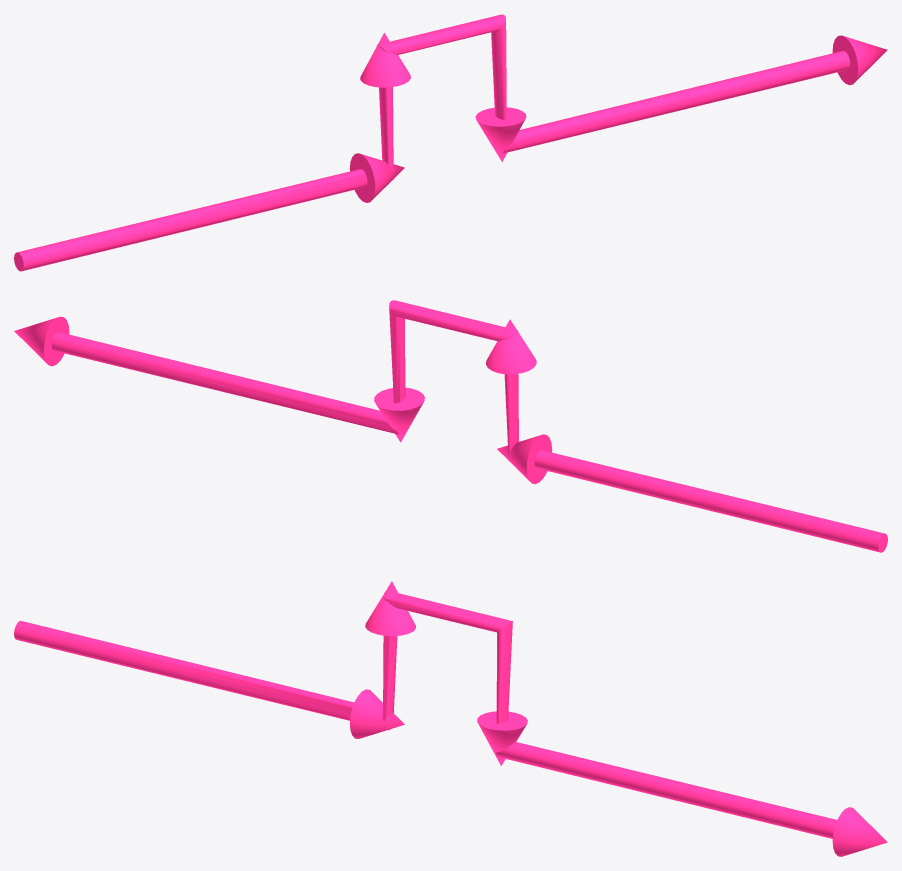
File: expansion_coupling_flow.glb
3 views of the same model, one above another, from view 1: azimuth 30°, elevation 25°; view 2: azimuth 150°, elevation 25°; view 3: azimuth 330°, elevation 25° (orthographic).
Visible parts, largest first — view 1: torque; view 2: torque; view 3: torque.
Part boxes in pixels (bbox=[...]): torque: bbox=[14, 14, 887, 271]; torque: bbox=[14, 300, 887, 552]; torque: bbox=[14, 581, 887, 856].
Size of the model in its own units: 0.612 by 0.1076 by 0.0343.
